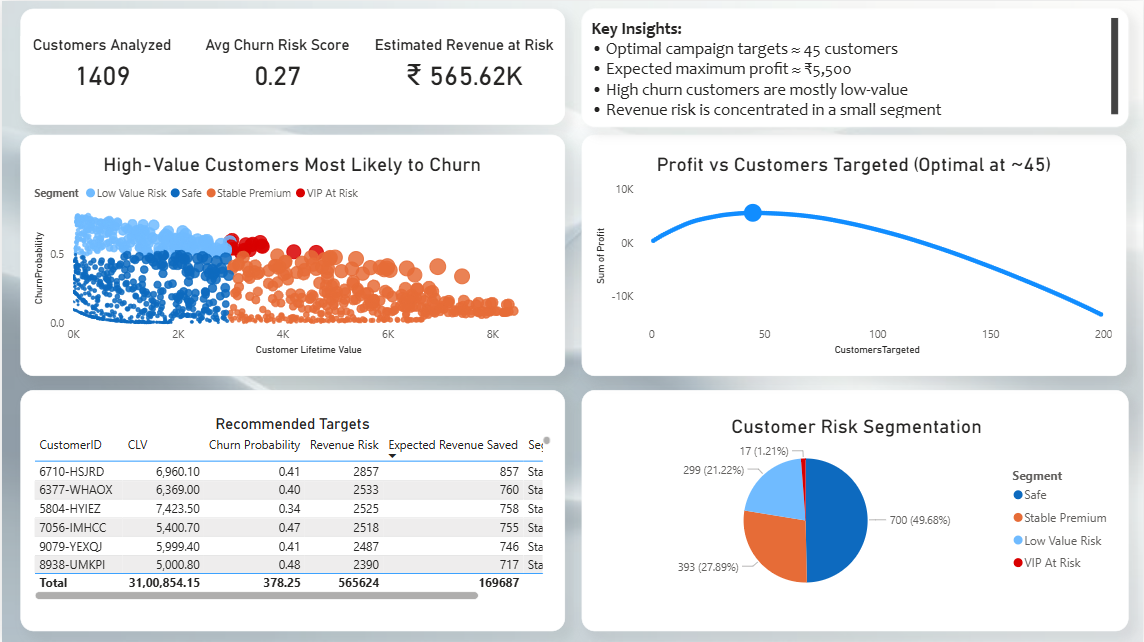

What the dashboard file says about the page in this screenshot:
{"tool":"powerbi","page":{"name":"Page 1","canvas":[1280,720],"ordinal":0},"visuals":[{"type":"shape","box":[650.4,435.4,613.2,270.8],"z":0},{"type":"shape","box":[21.2,435.4,610.6,270.8],"z":1000},{"type":"shape","box":[650.4,150,610.6,270.8],"z":2000},{"type":"shape","box":[21.2,8,610.6,130.1],"z":3000},{"type":"shape","box":[21.2,150,610.6,270.8],"z":4000},{"type":"card","title":"Customers Analyzed","fields":{"Values":["CountNonNull(churn_dashboard_dataset.CustomerID)"]},"box":[21.2,39.8,183.2,66.4],"z":5000},{"type":"card","title":"Avg Churn Risk Score","fields":{"Values":["Avg(churn_dashboard_dataset.ChurnProbability)"]},"box":[204.4,39.8,207.1,66.4],"z":6000},{"type":"card","title":"Estimated Revenue at Risk","fields":{"Values":["Sum(churn_dashboard_dataset.RevenueRisk)"]},"box":[411.3,39.8,212.3,66.3],"z":7000},{"type":"scatterChart","title":"High-Value Customers Most Likely to Churn","fields":{"X":["churn_dashboard_dataset.CLV"],"Y":["churn_dashboard_dataset.ChurnProbability"],"Series":["churn_dashboard_dataset.Segment"],"Size":["Sum(churn_dashboard_dataset.RevenueRisk)"]},"box":[31.9,169.9,589.3,231],"z":8000},{"type":"pieChart","title":"Customer Risk Segmentation","fields":{"Category":["churn_dashboard_dataset.Segment"],"Y":["CountNonNull(churn_dashboard_dataset.CustomerID)"]},"box":[663.7,464.6,589.3,212.4],"z":9000},{"type":"lineChart","title":"Profit vs Customers Targeted (Optimal at ~45)","fields":{"Category":["profit_curve.CustomersTargeted"],"Y":["Sum(profit_curve.Profit)"]},"box":[661,169.9,589.3,231],"z":10000},{"type":"textbox","box":[650.4,8,613.2,132.7],"z":11000},{"type":"tableEx","title":"Recommended Targets","fields":{"Values":["churn_dashboard_dataset.CustomerID","Sum(churn_dashboard_dataset.CLV)","Sum(churn_dashboard_dataset.ChurnProbability)","Sum(churn_dashboard_dataset.RevenueRisk)","Sum(churn_dashboard_dataset.ExpectedRevenueSaved)","churn_dashboard_dataset.Segment"]},"box":[31.9,464.6,589.3,212.4],"z":12000}]}

Visuals, with their boxes in screenshot pixels (x1, y1, x2, y2), scaled from the page's 1280x720 canvas onto the 1144x642 screenshot:
shape: 581:388:1129:630
shape: 19:388:565:630
shape: 581:134:1127:375
shape: 19:7:565:123
shape: 19:134:565:375
"Customers Analyzed" card: 19:35:183:95
"Avg Churn Risk Score" card: 183:35:368:95
"Estimated Revenue at Risk" card: 368:35:557:95
"High-Value Customers Most Likely to Churn" scatterChart: 29:151:555:357
"Customer Risk Segmentation" pieChart: 593:414:1120:604
"Profit vs Customers Targeted (Optimal at ~45)" lineChart: 591:151:1117:357
textbox: 581:7:1129:125
"Recommended Targets" tableEx: 29:414:555:604
